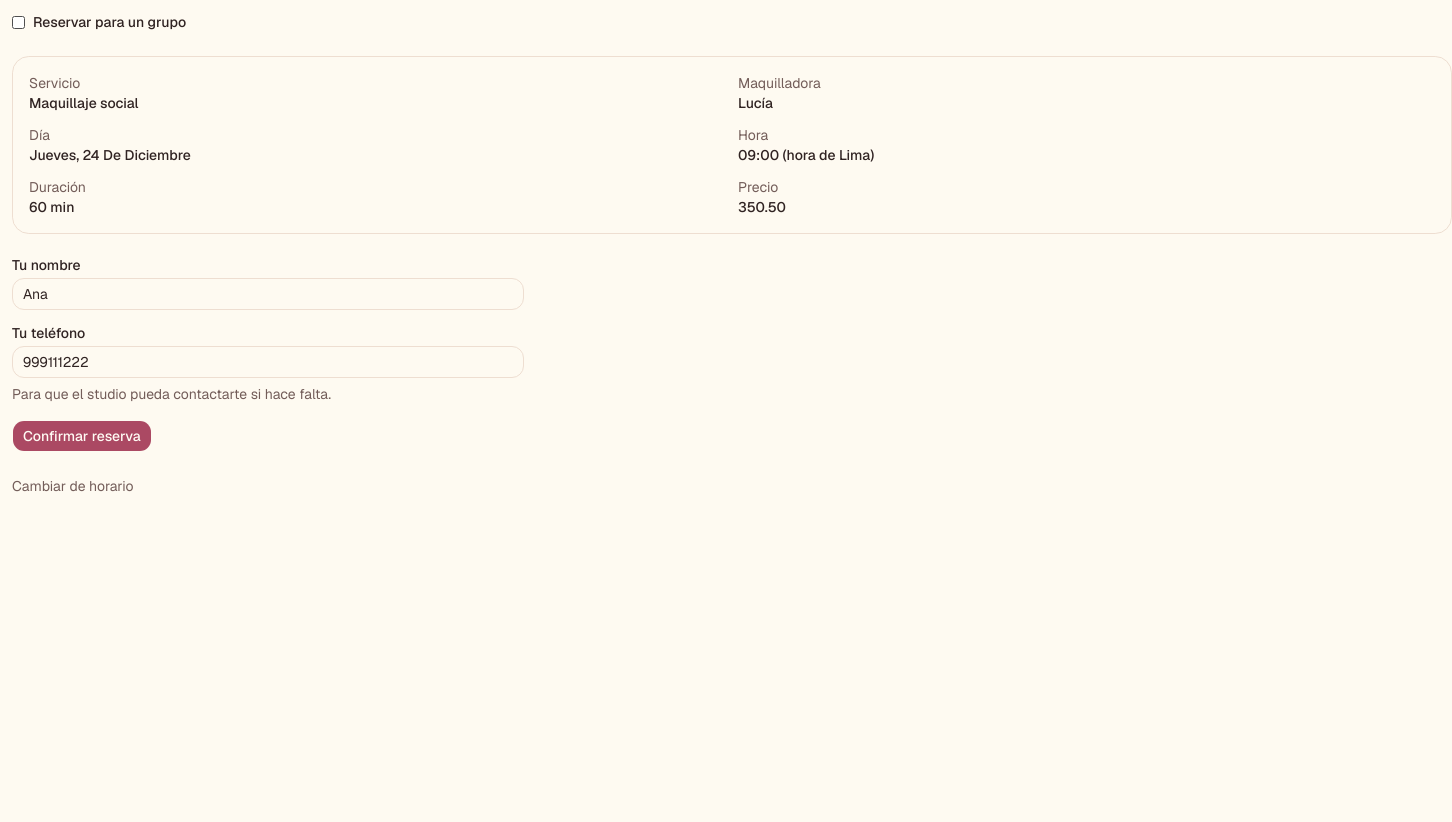
Test case: respuestas del servidor › ante un choque de horario lo explica, ofrece los horarios de la misma maquilladora y conserva todo
Click the button "Confirmar reserva".
click(82, 436)  # box [12, 420, 152, 452]
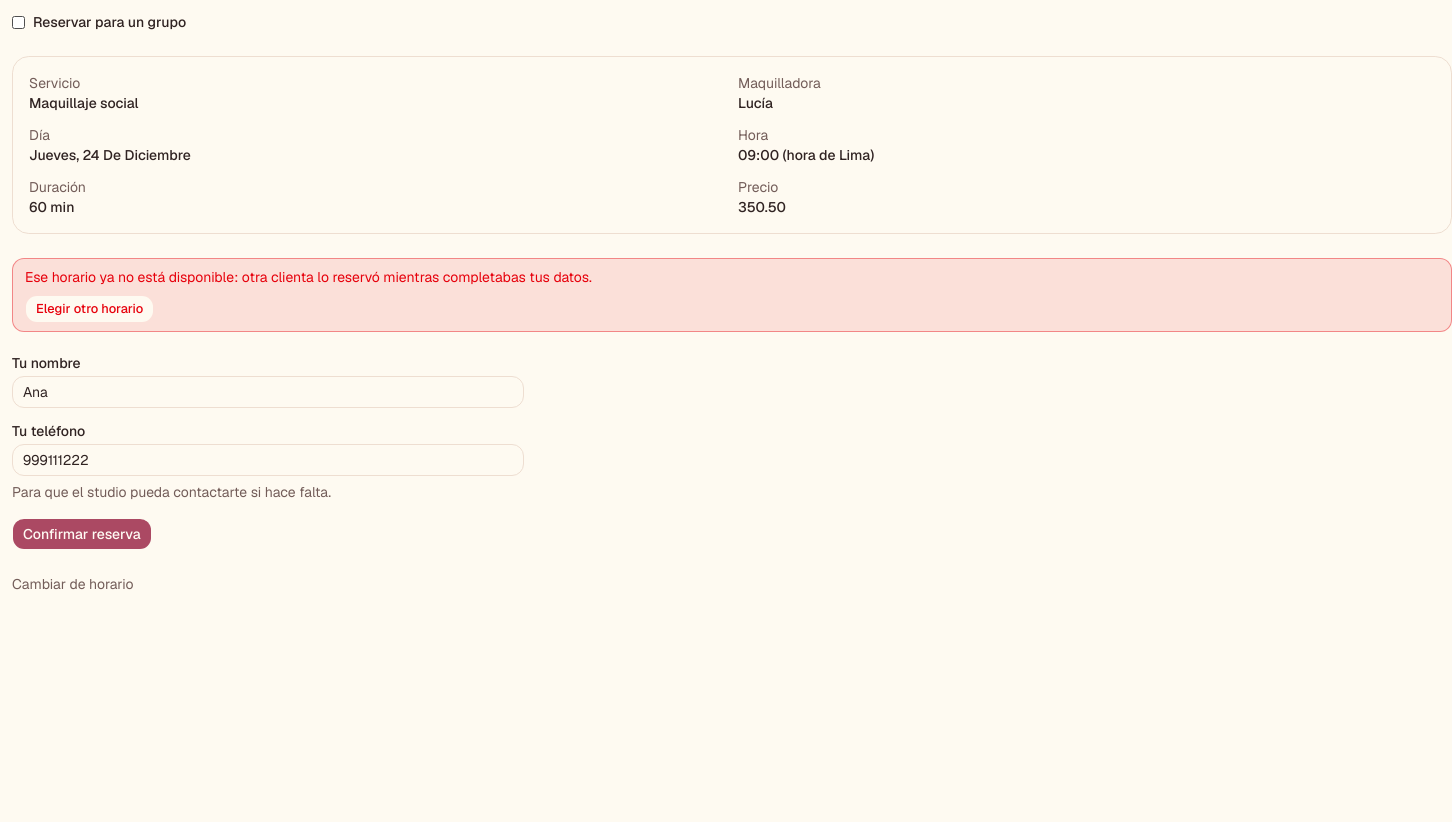
Expected: the field labelled "Tu nombre" holds "Ana", [12, 376, 524, 408]
Expected: the message shows "Ese horario ya no está disponible", [25, 268, 592, 286]
